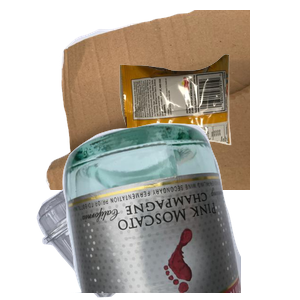cardboard: (43, 10, 283, 190)
glass: (60, 120, 300, 300)
plastic: (34, 130, 246, 300)
trash: (117, 52, 300, 193)
